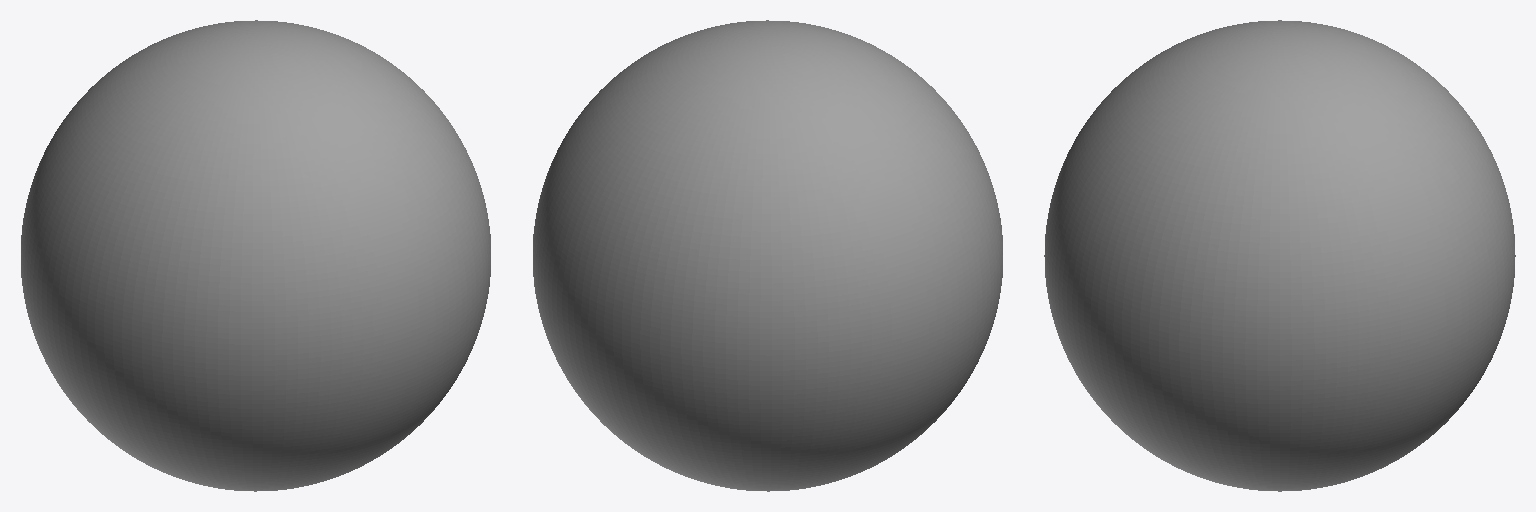
File: Earth.obj
3 renders of one model, left to right at view 1: azimuth 30°, elevation 25°; view 2: azimuth 150°, elevation 25°; view 3: azimuth 270°, elevation 25°, orthographic.
Parts seen in each view (by area): view 1: Sphere; view 2: Sphere; view 3: Sphere.
Boxes of the visible parts, box(x1,y1,x2,y2) form: Sphere: box(21, 20, 490, 491); Sphere: box(533, 20, 1002, 491); Sphere: box(1044, 20, 1515, 491).
Size of the model in its own units: 2 by 2 by 2.